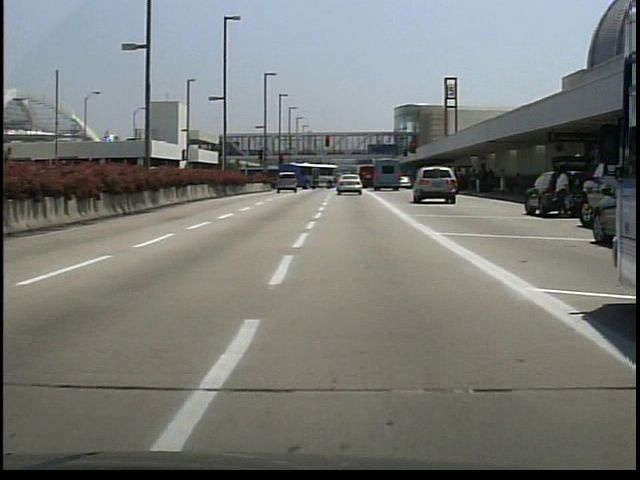person: (551, 169, 571, 219)
